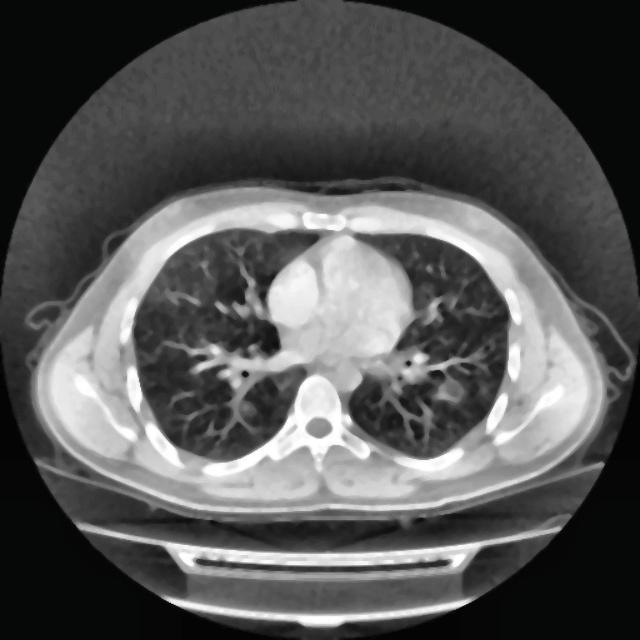covid: (28, 177, 621, 525)
